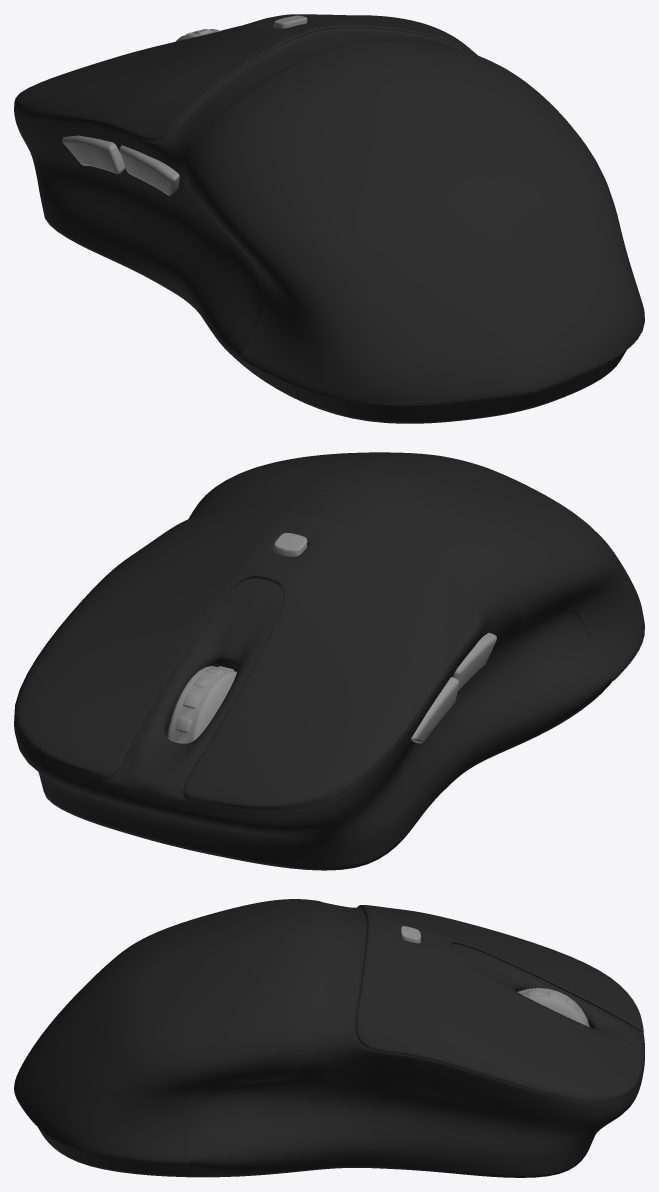
Rendered from Mouse.fbx.
3 renders of one model, top to bottom at view 1: azimuth 30°, elevation 25°; view 2: azimuth 150°, elevation 25°; view 3: azimuth 270°, elevation 25°, orthographic. The views are drawn at different scales.
Visible parts, largest first — view 1: Mouse; view 2: Mouse; view 3: Mouse.
Part boxes in pixels (x1,y1,x2,y2): Mouse: (14, 14, 644, 423); Mouse: (14, 452, 644, 870); Mouse: (14, 899, 644, 1177).
Bounding box in the file's own units: 96.57 × 57.97 × 175.
Materials: 1 (1 with a texture image).
